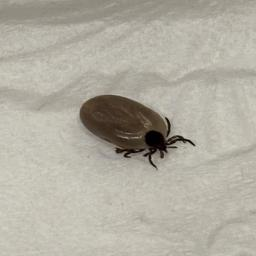Ixodes scapularis: (81, 95, 196, 171)
